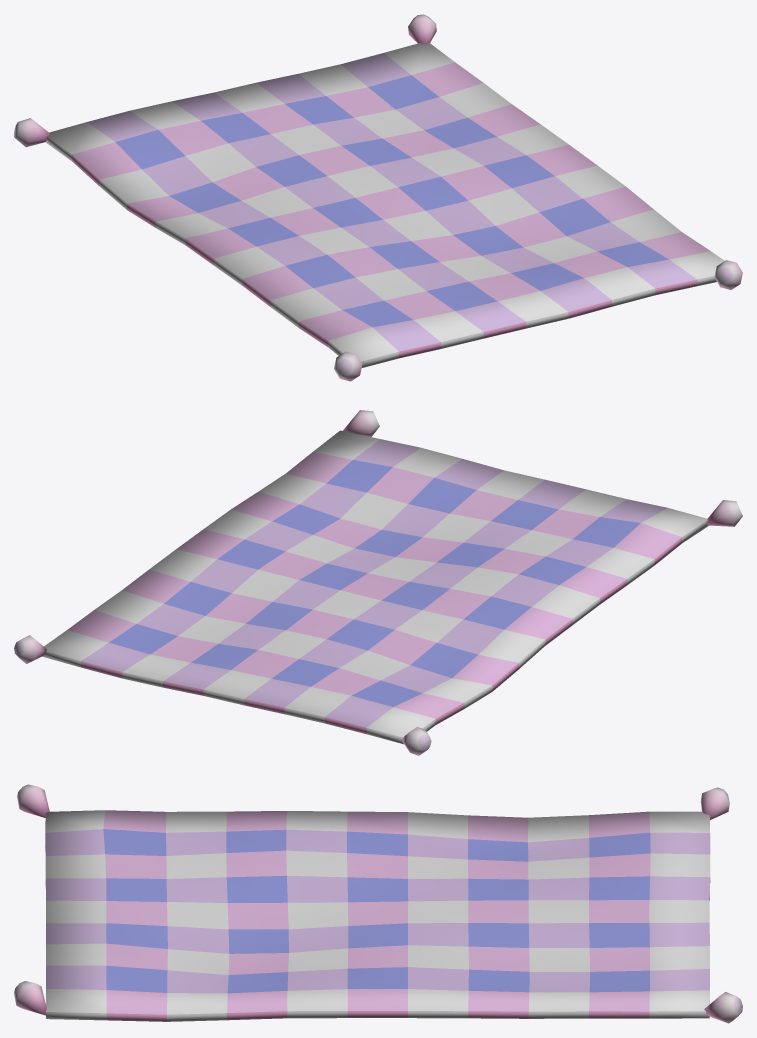
Rendered from cutepack2023picnicquilt02 1.fbx.
3 renders of one model, top to bottom at view 1: azimuth 30°, elevation 25°; view 2: azimuth 150°, elevation 25°; view 3: azimuth 270°, elevation 25°, orthographic. The views are drawn at different scales.
Parts seen in each view (by area): view 1: Sphere.040; view 2: Sphere.040; view 3: Sphere.040.
Boxes of the visible parts, x1,y1,x2,y2 form: Sphere.040: (14,14,742,381); Sphere.040: (14,410,742,755); Sphere.040: (14,784,742,1023).
Bounding box in the file's own units: 334 × 25.03 × 466.
